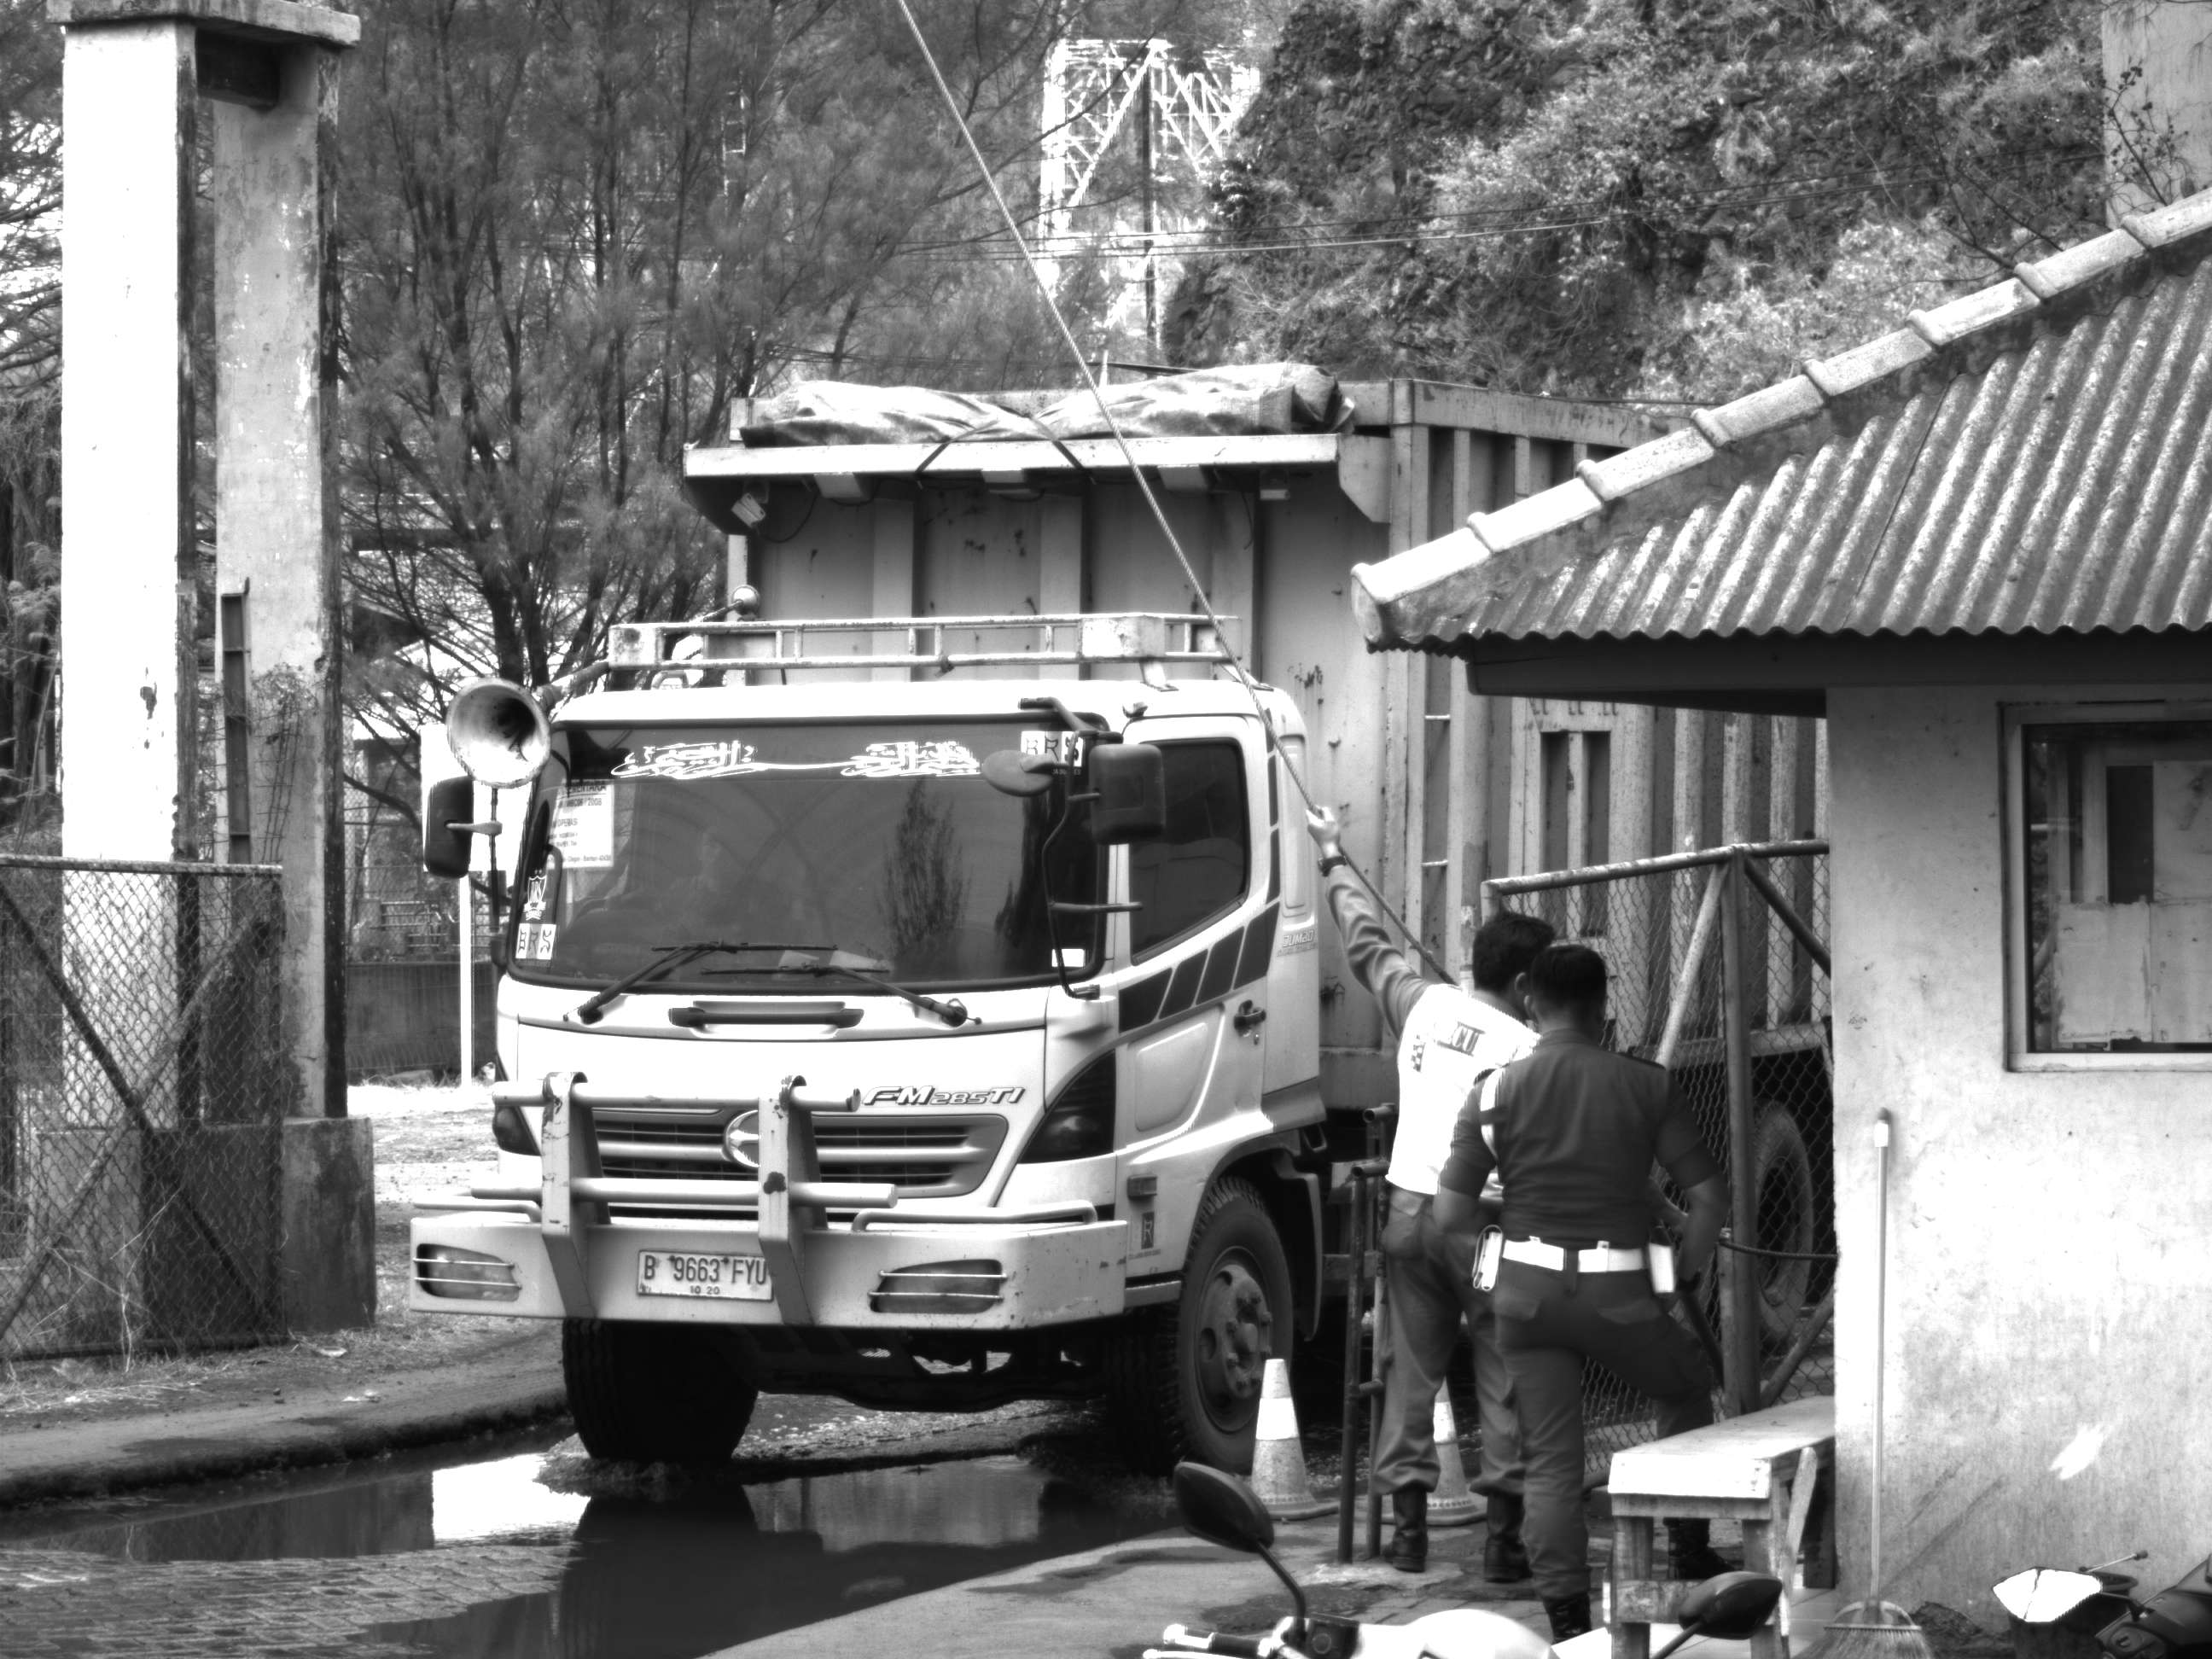day_truck_front: (372, 566, 1311, 1481)
plate: (632, 1247, 781, 1300)
